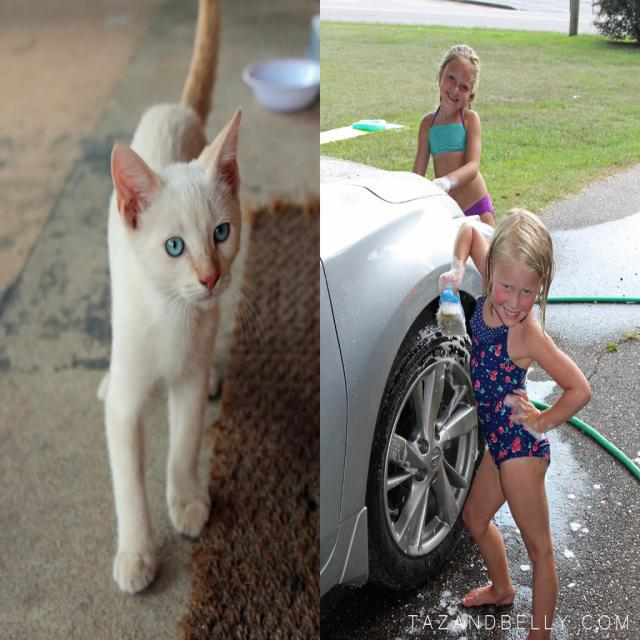Cat: (95, 0, 286, 594)
